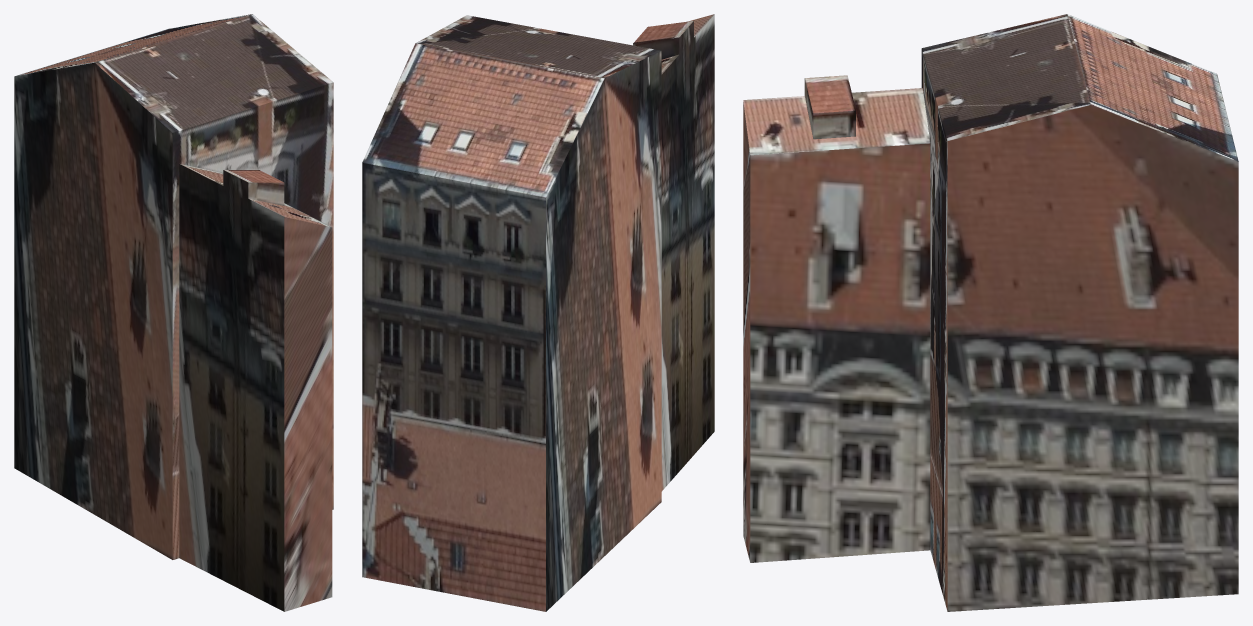
The picture shows the model from 3 angles, left to right: view 1: azimuth 30°, elevation 25°; view 2: azimuth 150°, elevation 25°; view 3: azimuth 270°, elevation 25°; orthographic projection. The views are drawn at different scales.
Visible parts, largest first — view 1: Z_UP; view 2: Z_UP; view 3: Z_UP.
Part boxes in pixels (x1,y1,x2,y2): Z_UP: [14, 14, 333, 611]; Z_UP: [362, 14, 714, 611]; Z_UP: [743, 14, 1238, 611].
Bounding box in the file's own units: 12.21 × 26.73 × 24.08.
2 materials, 1 textured.
